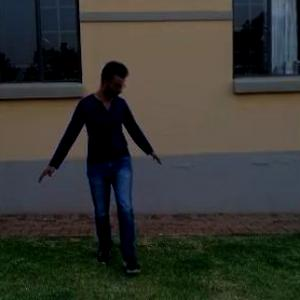land: (35, 50, 188, 276)
